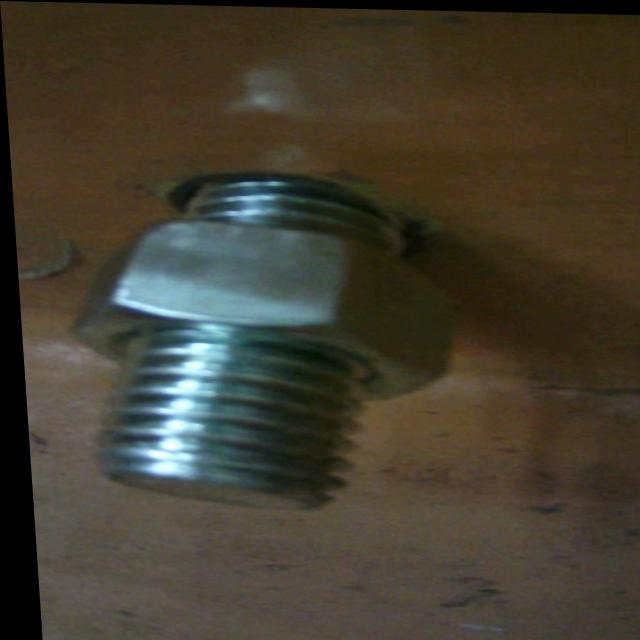Loose bolt: (64, 179, 455, 506)
Regular bolt: (53, 167, 464, 513)
